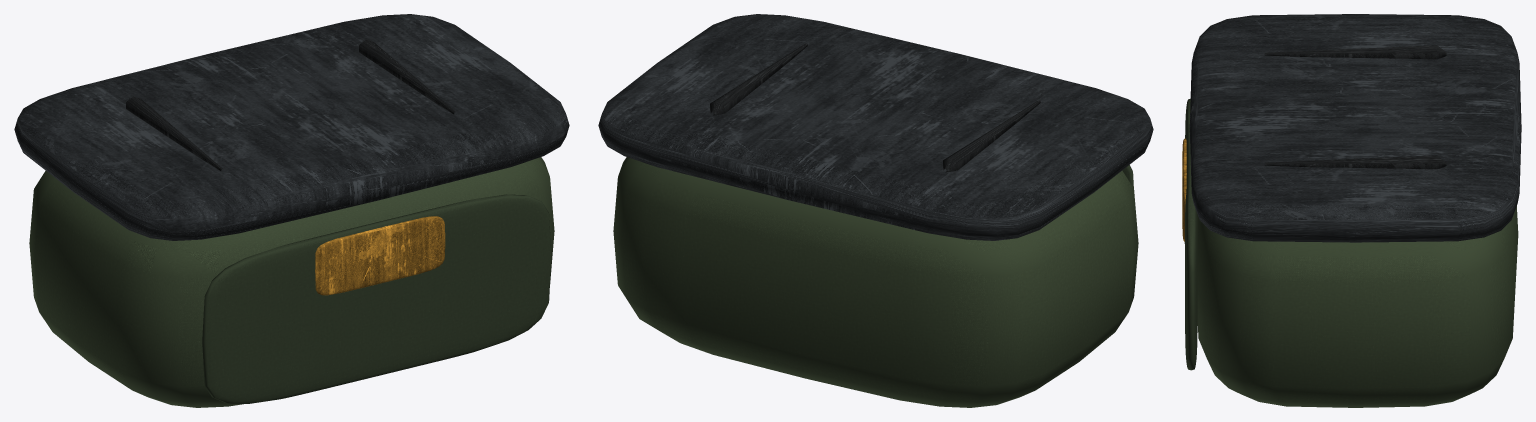
Rendered from field_kit.glb.
3 views of the same model, side by side, from view 1: azimuth 30°, elevation 25°; view 2: azimuth 150°, elevation 25°; view 3: azimuth 270°, elevation 25° (orthographic). The views are drawn at different scales.
Parts seen in each view (by area): view 1: field_kit; view 2: field_kit; view 3: field_kit.
Part boxes in pixels (<box>): field_kit: <box>14,14,569,407</box>; field_kit: <box>598,14,1153,407</box>; field_kit: <box>1182,14,1521,407</box>.
Size of the model in its own units: 0.304 by 0.161 by 0.2085.
2 materials, 2 textured.
